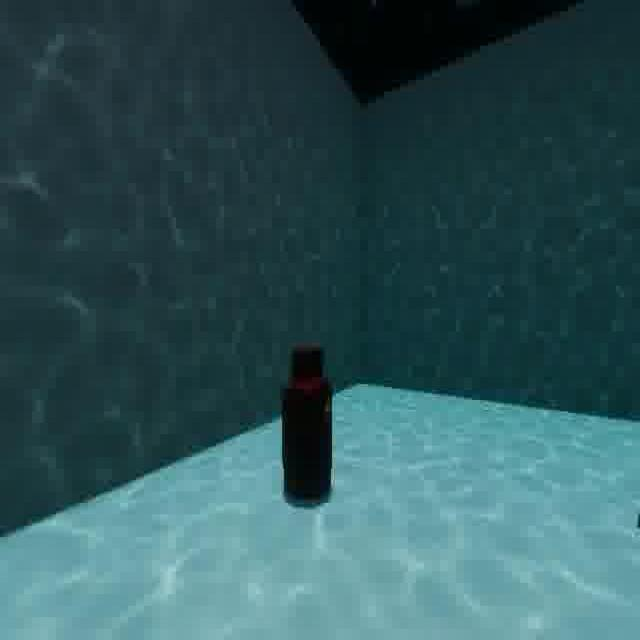Cylinder: (275, 334, 344, 518)
